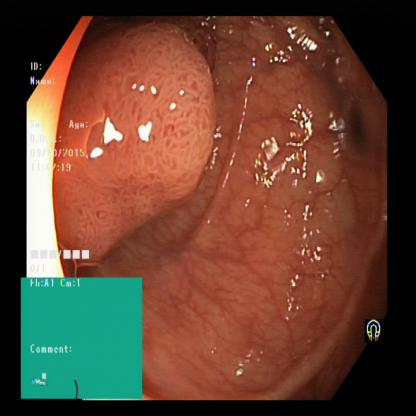Labels: (20, 280, 145, 400), (30, 60, 95, 274), (364, 309, 388, 347)
Polyps: (95, 43, 213, 216)
